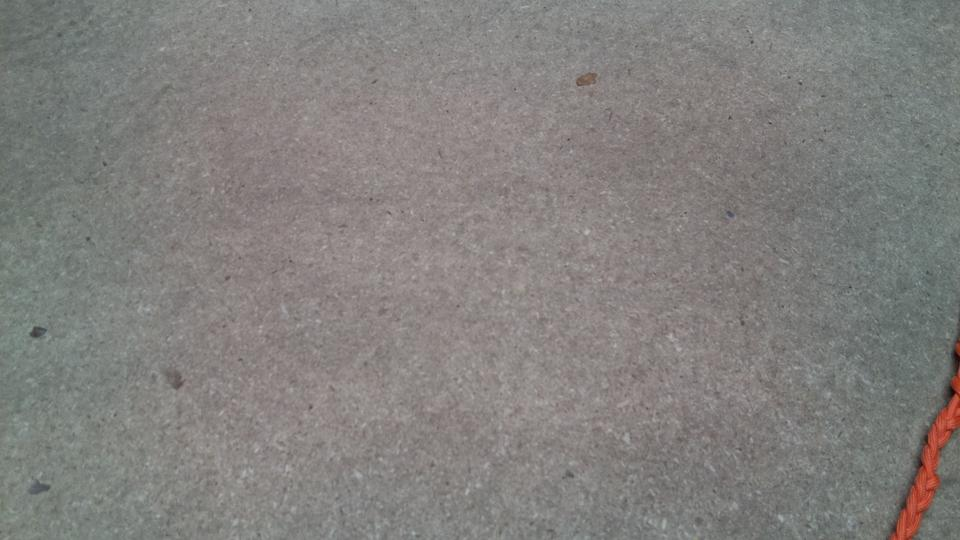rope: (885, 376, 958, 539)
